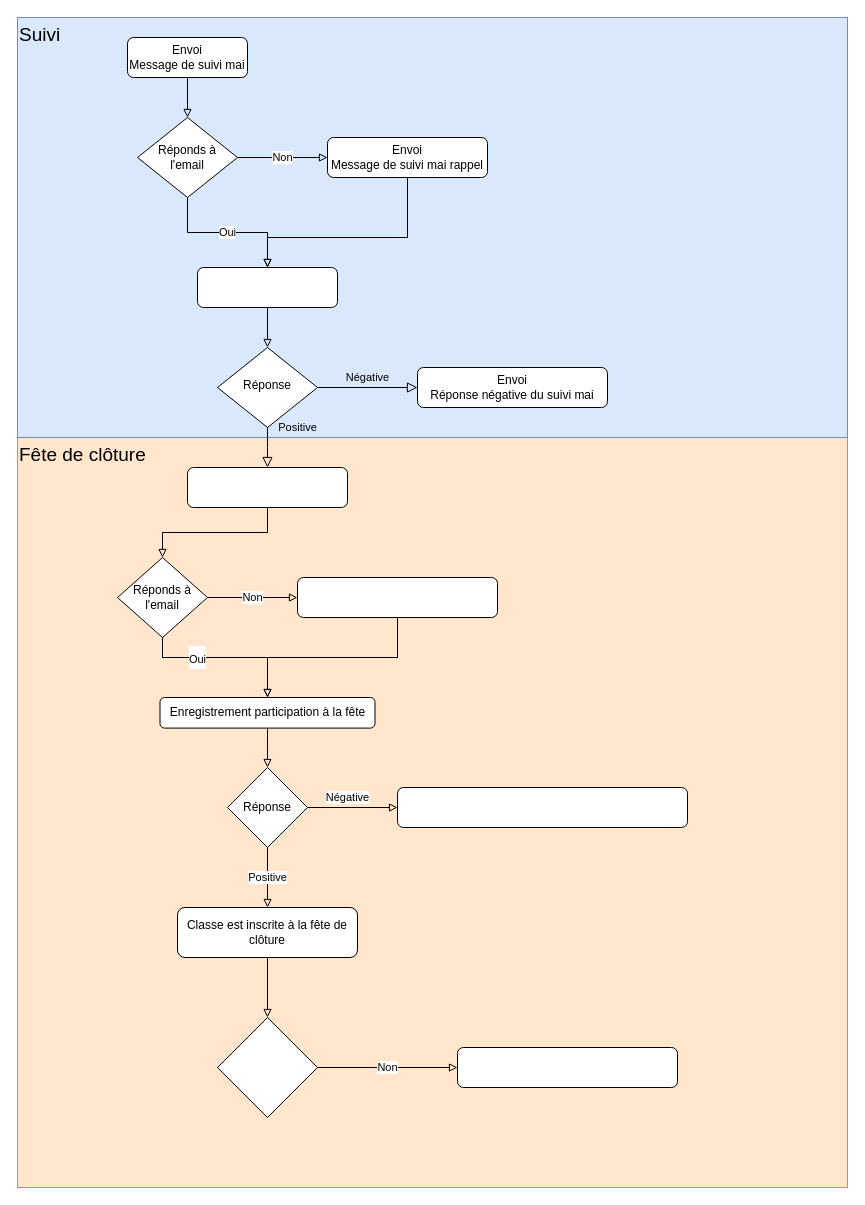
This 865x1205 diagram has some shape labels left out. Each missing label, with the centre of its shape:
Classes enregistrés à la fête?: (267,1067)
Envoi Invitation à la fête de clôture: (267,487)
Envoi Invitation à la fête de clôture rappel: (397,597)
Envoi Rappel inscription des groupes à la fête: (567,1067)
Envoi Réponse négative participation à la fête de clôture: (542,807)
Prof réponds au statut, enregistrement du statut: (267,287)
